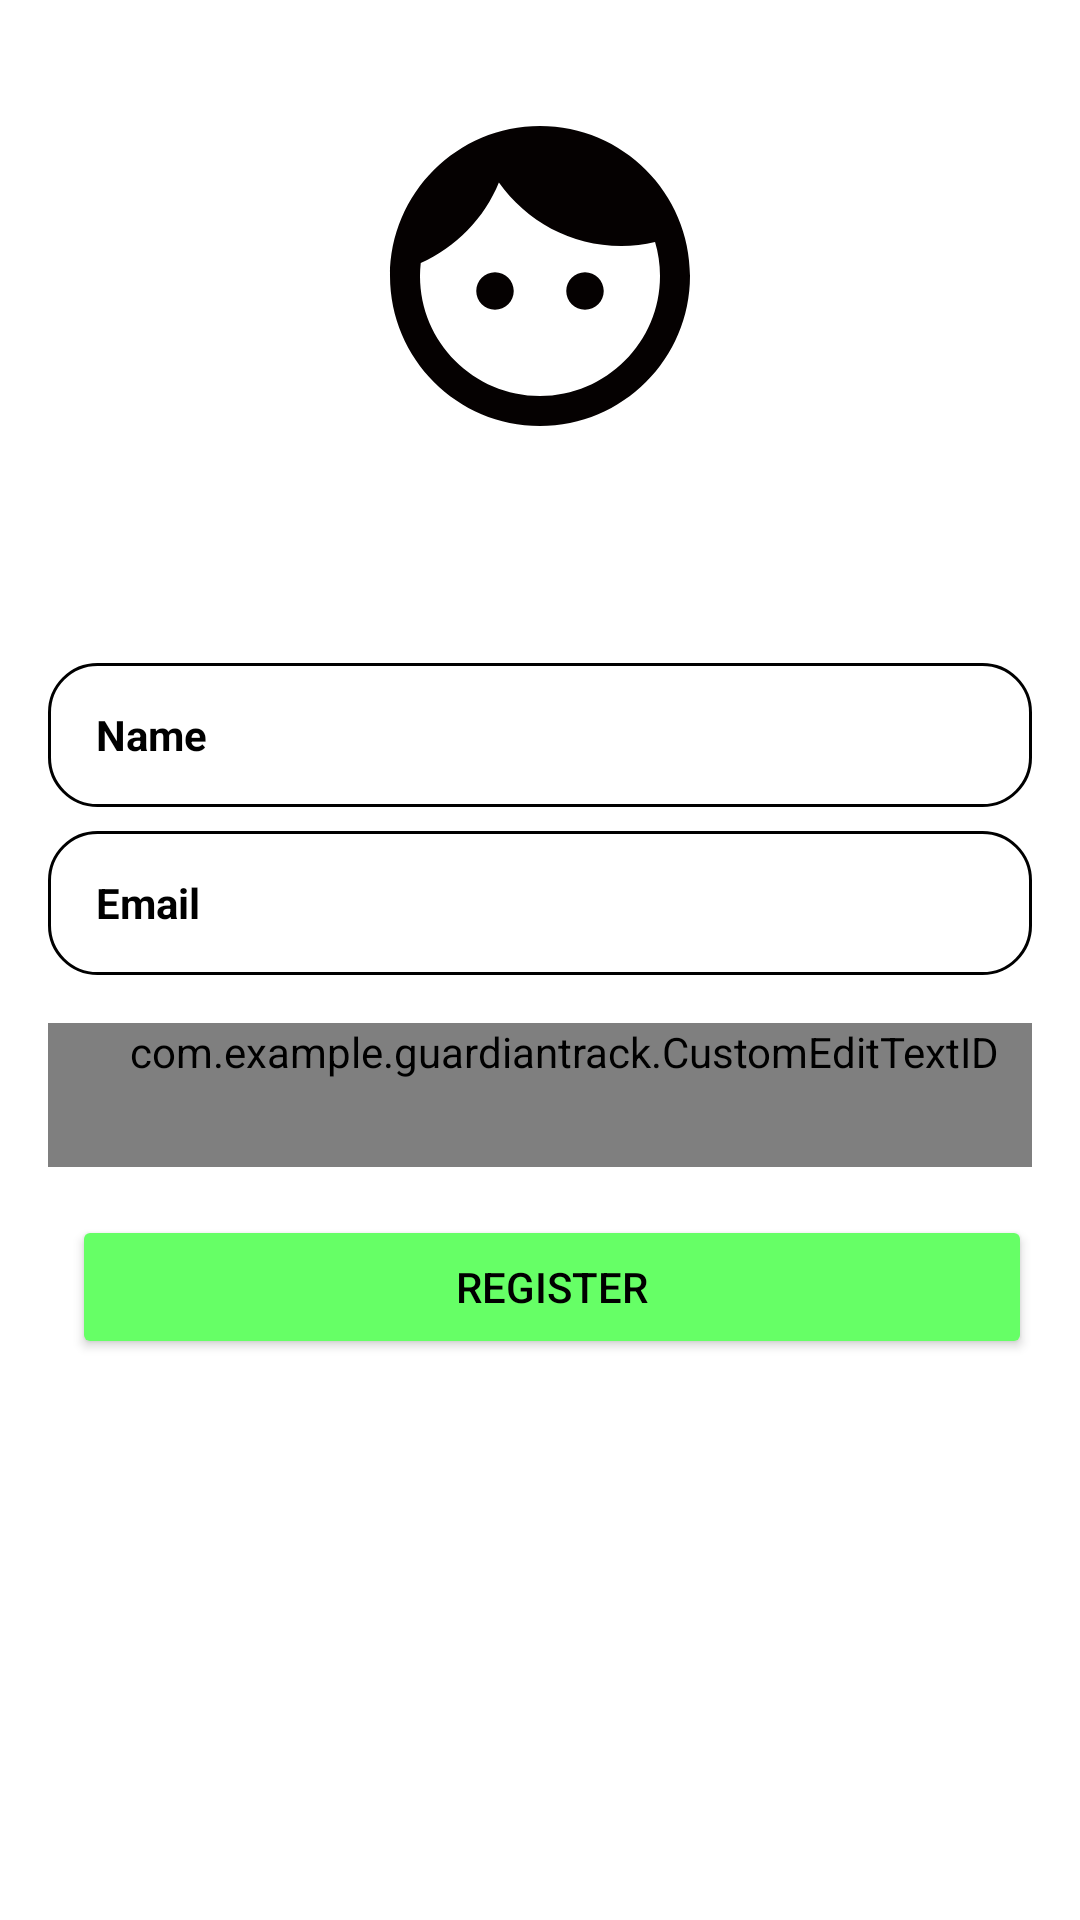

Screen size 1080px×1920px. Icon name, then its box in pixels as (x1, y1, x2, y2):
face: (390, 126, 690, 426)
